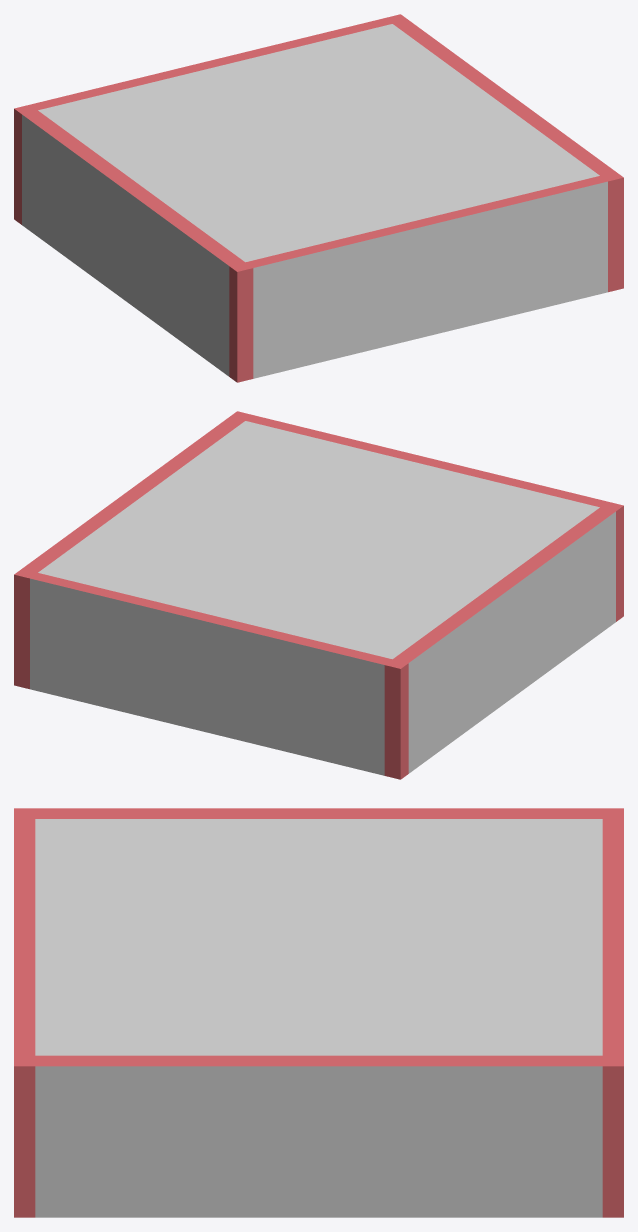
Rendered from cell.fbx.
The picture shows the model from 3 angles, top to bottom: view 1: azimuth 30°, elevation 25°; view 2: azimuth 150°, elevation 25°; view 3: azimuth 270°, elevation 25°; orthographic projection. The views are drawn at different scales.
Visible parts, largest first — view 1: Cube; view 2: Cube; view 3: Cube.
Boxes of the visible parts, bbox=[...] form: Cube: bbox=[14, 14, 623, 382]; Cube: bbox=[14, 411, 623, 779]; Cube: bbox=[14, 808, 623, 1217].
Bounding box in the file's own units: 200 × 54.77 × 200.
